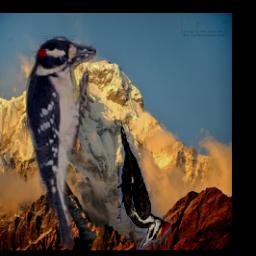Woodpecker: (23, 32, 95, 248), (116, 116, 171, 250)
